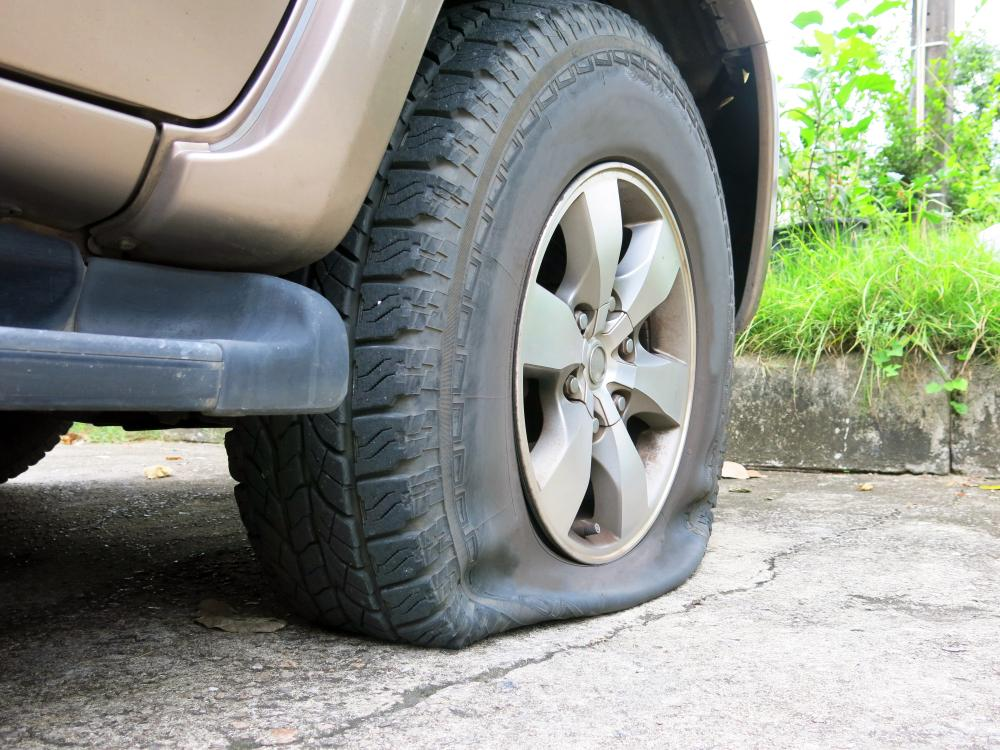tire flat: (222, 0, 734, 654)
